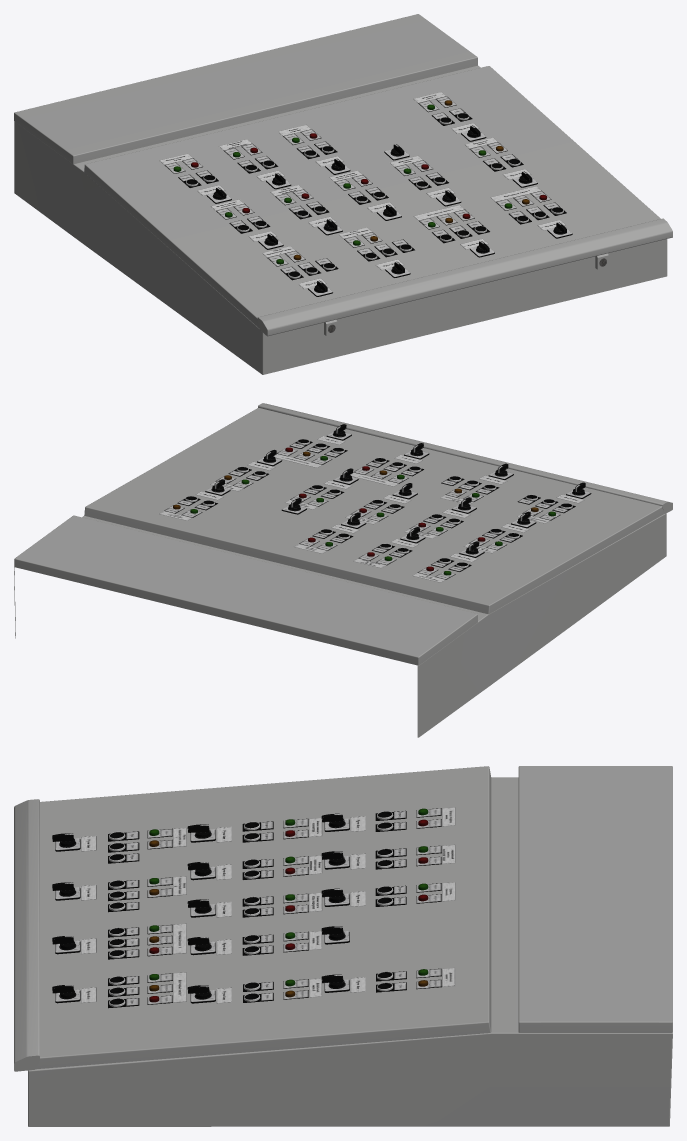
Rendered from Console_PSODP6.glb.
The picture shows the model from 3 angles, top to bottom: view 1: azimuth 30°, elevation 25°; view 2: azimuth 150°, elevation 25°; view 3: azimuth 270°, elevation 25°; orthographic projection. The views are drawn at different scales.
Visible parts, largest first — view 1: Object001, Rectangle001, Line001; view 2: Object001, Rectangle001, Line001; view 3: Object001, Rectangle001, Line001.
Part boxes in pixels (x1,y1,x2,y2): Object001: [14, 14, 660, 327]; Rectangle001: [14, 65, 667, 374]; Line001: [257, 218, 672, 336]; Object001: [14, 408, 664, 665]; Rectangle001: [14, 513, 666, 737]; Line001: [258, 403, 672, 513]; Object001: [35, 766, 672, 1069]; Rectangle001: [28, 777, 672, 1126]; Line001: [14, 799, 39, 1071].
Size of the model in its own units: 1.1 by 0.2097 by 1.2.
13 materials, 12 textured.
